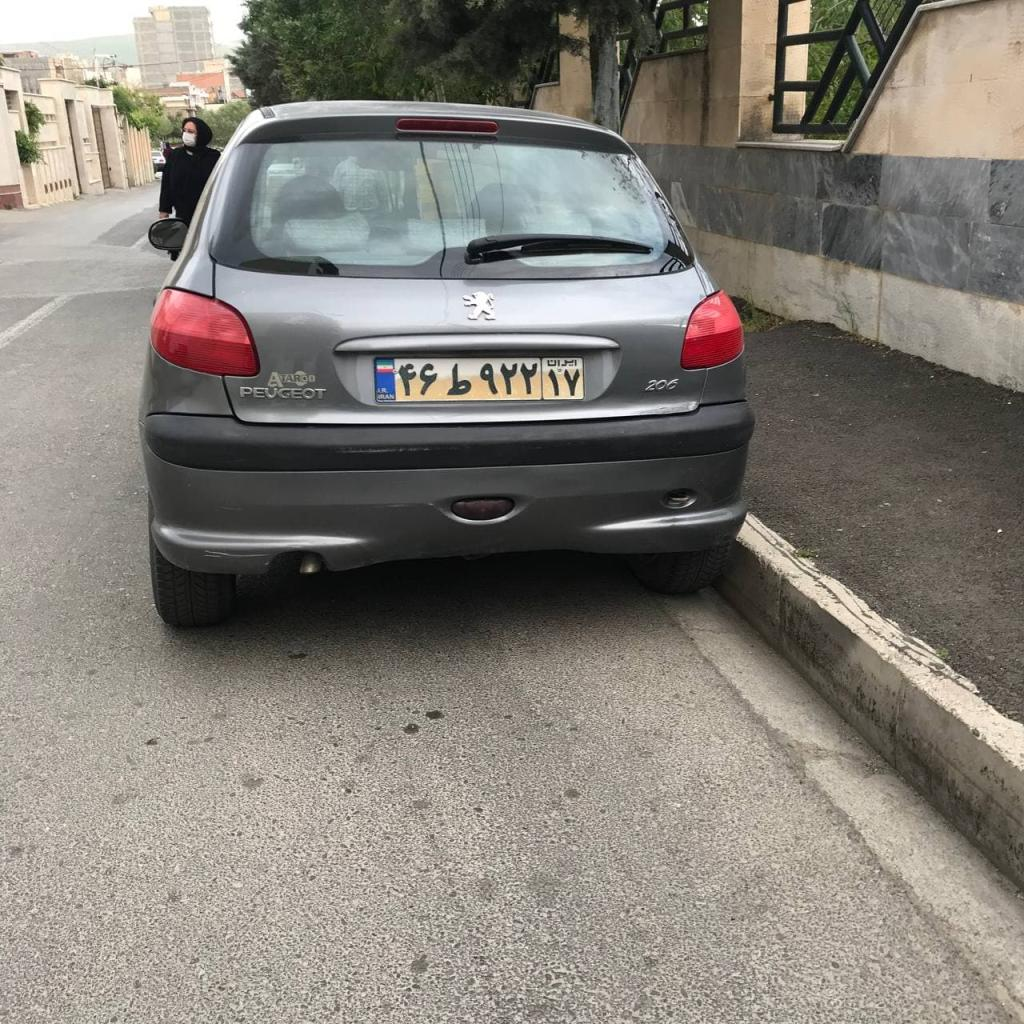Plates: (374, 357, 584, 402)
